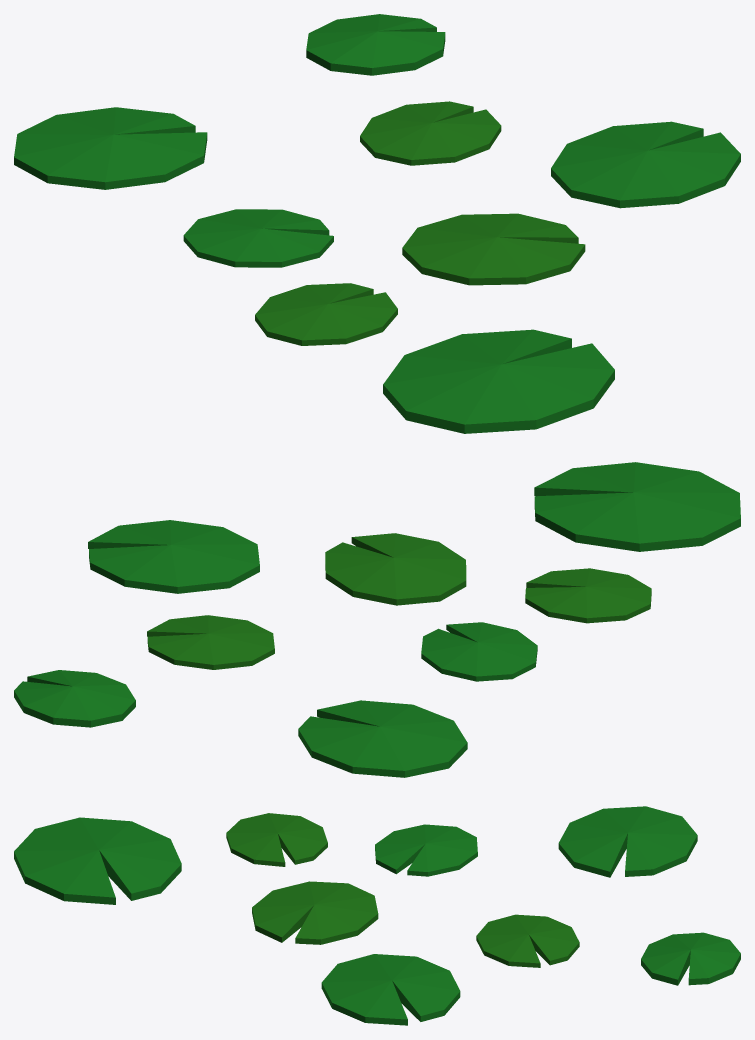
Rendered from lily_pads.glb.
3 views of the same model, one above another, from view 1: azimuth 30°, elevation 25°; view 2: azimuth 150°, elevation 25°; view 3: azimuth 270°, elevation 25° (orthographic). The views are drawn at different scales.
Parts seen in each view (by area): view 1: Water Lily Multi_1_A; view 2: Water Lily Multi_1_A; view 3: Water Lily Multi_1_A.
Part boxes in pixels (left/top/right/bottom): Water Lily Multi_1_A: left=14, top=14, right=740, bottom=433; Water Lily Multi_1_A: left=14, top=462, right=740, bottom=777; Water Lily Multi_1_A: left=14, top=806, right=740, bottom=1025.
Size of the model in its own units: 0.84 by 0.03 by 1.21.
1 material, 1 textured.
